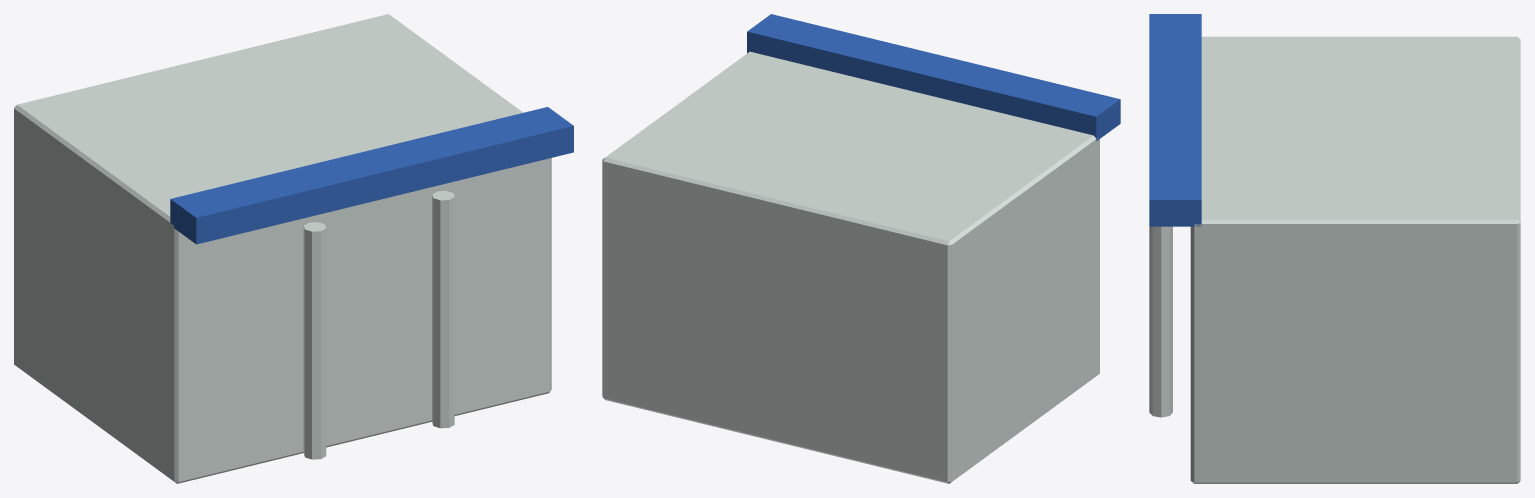
File: bank-low.glb
The picture shows the model from 3 angles, left to right: view 1: azimuth 30°, elevation 25°; view 2: azimuth 150°, elevation 25°; view 3: azimuth 270°, elevation 25°; orthographic projection. The views are drawn at different scales.
Visible parts, largest first — view 1: Bank_Body, Bank_Pediment, Column_0, Column_1; view 2: Bank_Body, Bank_Pediment; view 3: Bank_Body, Bank_Pediment, Column_1.
Part boxes in pixels (x1,y1,x2,y2): Bank_Body: (14, 14, 551, 483); Bank_Pediment: (170, 107, 573, 244); Column_0: (303, 222, 326, 459); Column_1: (432, 191, 454, 428); Bank_Body: (602, 51, 1099, 483); Bank_Pediment: (747, 14, 1120, 141); Bank_Body: (1190, 36, 1520, 483); Bank_Pediment: (1149, 14, 1201, 226); Column_1: (1149, 226, 1172, 417).
Bounding box in the file's own units: 5.2 × 3.72 × 4.39.
